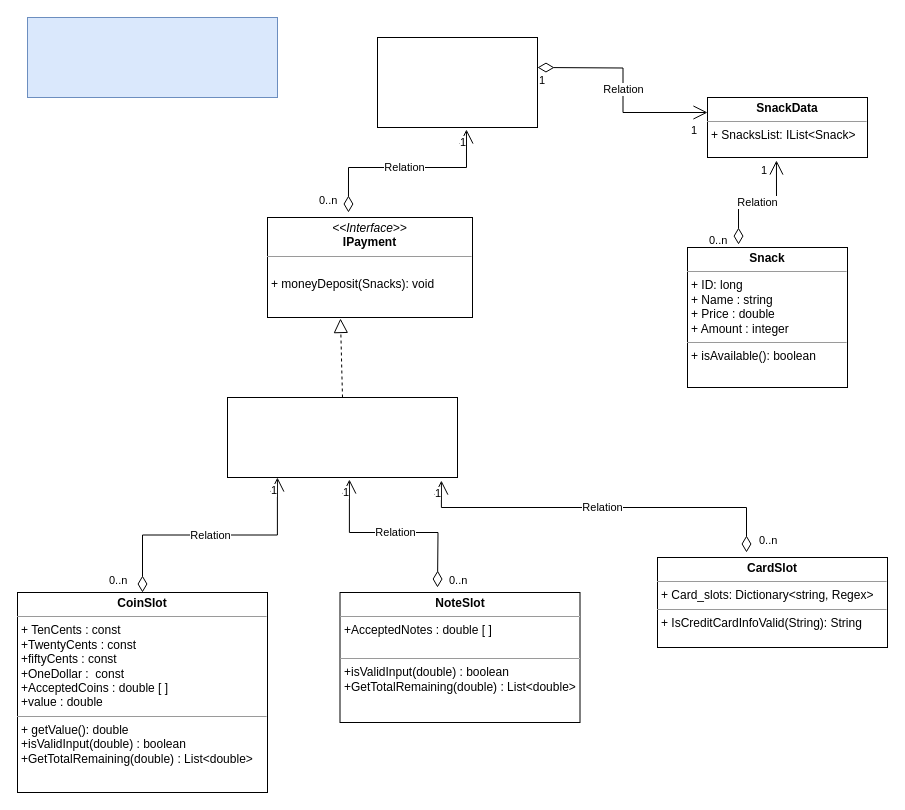
The diagram is 905 pixels wide and 810 high, and some of its shapes have lost their labels. The centre of each missing label's shape, as x and y in pixels:
Payment + moneyDeposit(Snacks): void: [342,437]
SnackVendingMachine + field: Type + DisplayMenu(): void + DisplaySnacks(): void: [457,82]
UML For Snack Vending Machine: [152,57]
